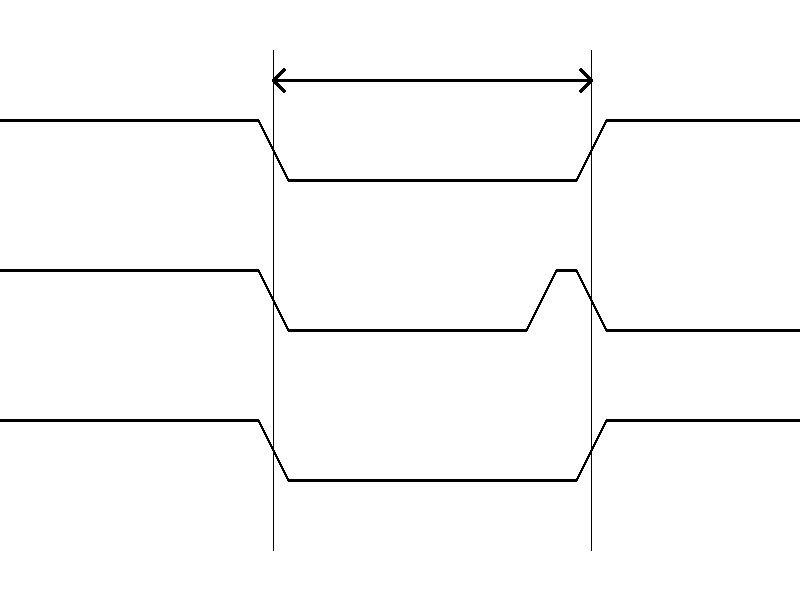double_arrow: (273, 65, 591, 95)
